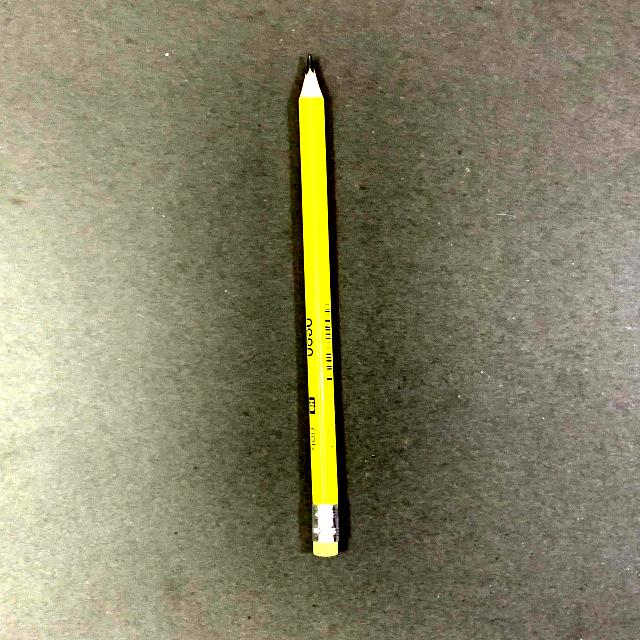Pencil: (242, 34, 391, 594)
